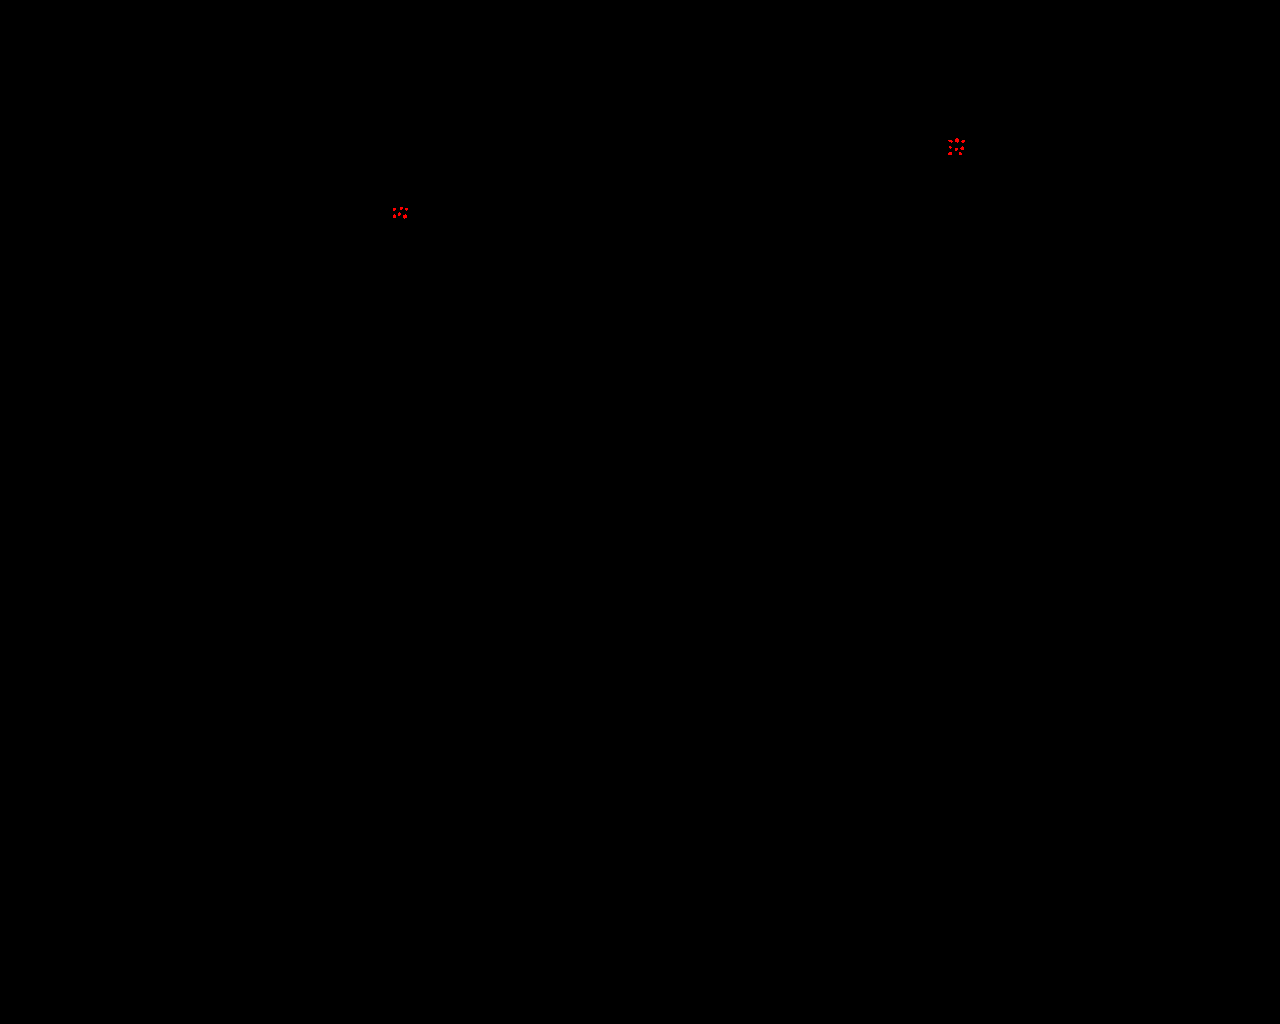Target: (955, 138, 959, 143), (403, 214, 408, 219), (960, 146, 964, 150), (948, 140, 953, 143), (961, 140, 965, 143), (948, 152, 952, 155), (398, 212, 401, 216), (393, 214, 396, 218), (949, 146, 952, 149), (955, 148, 958, 152), (959, 152, 962, 155), (400, 207, 403, 210), (393, 208, 396, 211), (405, 208, 408, 211)
